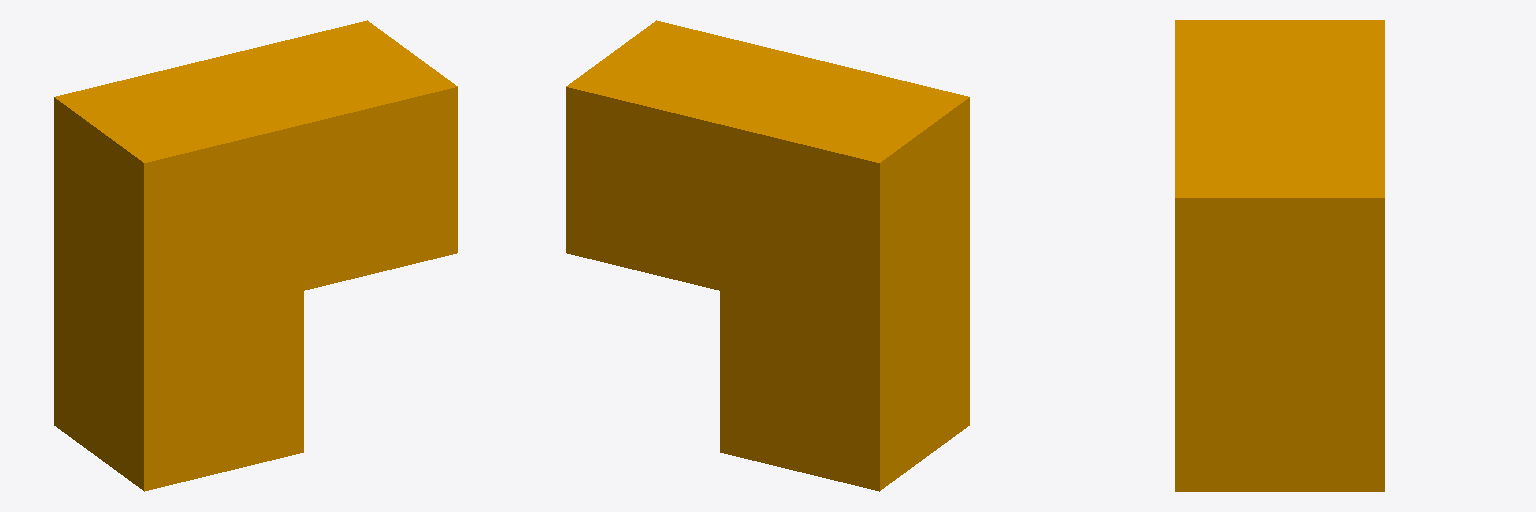
robot.urdf — 2_2L_2:
<robot name="2_2L_2">
  <link name="link">
    <visual>
      <geometry>
        <mesh filename="2_2L_2.obj" scale="1 1 1"/>
      </geometry>
    </visual>
    <collision>
      <geometry>
        <mesh filename="2_2L_2.obj" scale="1 1 1"/>
      </geometry>
    </collision>
    <inertial>
      <mass value="1"/>
      <inertia ixx="1" iyy="1" izz="1" ixy="0" ixz="0" iyz="0"/>
      <origin xyz="0 0 0" rpy="0 0 0"/>
    </inertial>
  </link>
</robot>

--- Render facts (derived) ---
3 views of the same robot in one strip: view 1: azimuth 30°, elevation 25°; view 2: azimuth 150°, elevation 25°; view 3: azimuth 270°, elevation 25° (orthographic).
Model 2_2L_2 with 1 links and 0 joints (none), rooted at link, posed all joints at 0.
Links seen in each view (by area): view 1: link; view 2: link; view 3: link.
Link boxes in pixels (x1,y1,x2,y2): link: [54, 20, 457, 491]; link: [566, 20, 969, 491]; link: [1175, 20, 1384, 491].
Bounding box of the posed robot: 0.1178 × 0.0589 × 0.1178 m (x, y, z).
1 mesh visuals loaded from 1 distinct referenced files (1 OBJ).